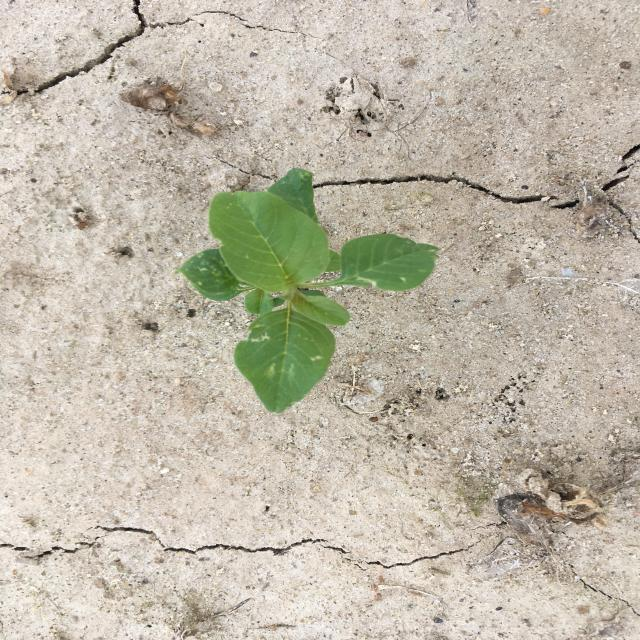PalmerAmaranth: (176, 168, 441, 414)
